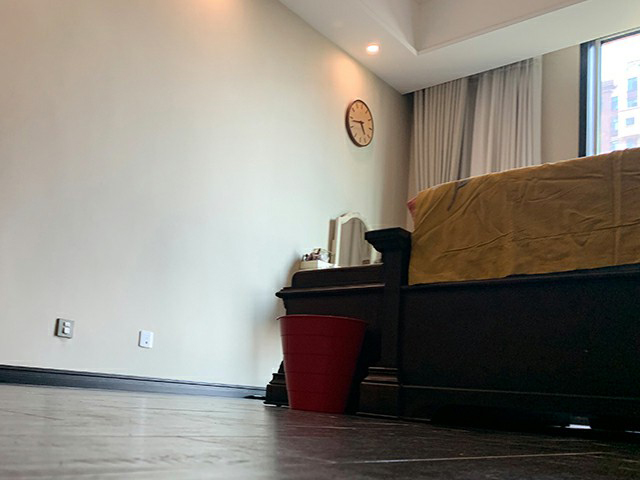bed: (357, 146, 640, 434)
trashcan: (274, 313, 366, 414)
